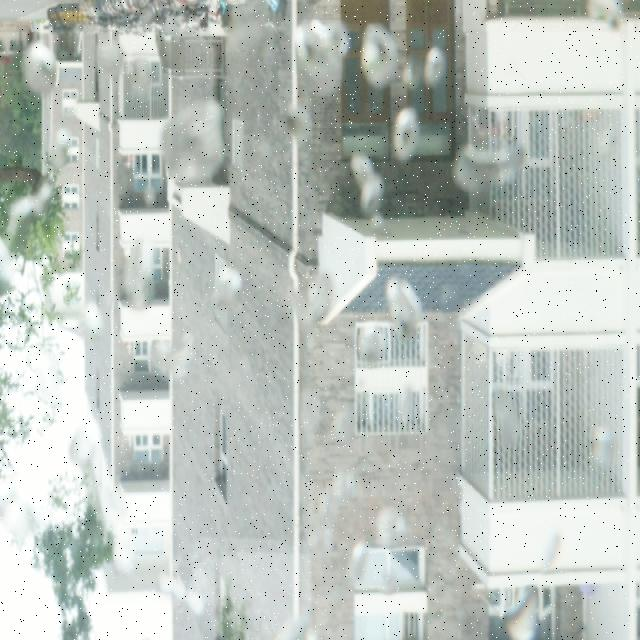raindrop: (148, 93, 224, 193), (274, 13, 349, 90), (0, 157, 52, 245), (340, 19, 398, 88), (140, 312, 194, 380), (112, 230, 160, 305), (290, 266, 342, 334), (454, 143, 527, 190), (151, 566, 211, 620), (382, 91, 422, 156), (344, 146, 382, 214), (0, 487, 45, 541), (386, 274, 421, 342), (350, 314, 398, 362), (270, 96, 310, 150), (210, 270, 256, 316), (22, 32, 56, 94), (502, 590, 544, 640), (486, 388, 524, 442), (285, 384, 322, 438), (339, 540, 382, 586), (534, 526, 570, 572), (270, 610, 322, 640), (328, 459, 361, 502), (588, 421, 618, 468), (374, 506, 407, 546), (586, 0, 627, 32), (415, 51, 449, 88), (508, 340, 535, 384), (394, 56, 424, 88), (72, 416, 93, 454), (82, 304, 108, 333), (338, 404, 354, 444)
